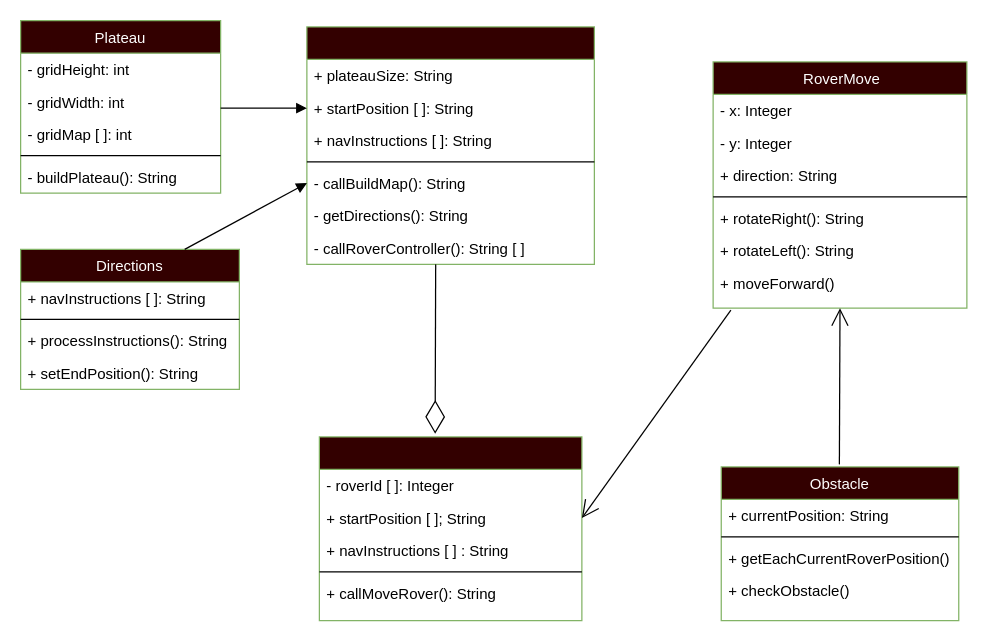
Image size: 988x641. Some labels were removed from this diagram. The box of each missing label's shape, as (x1, y1, x2, y2) in pixels:
ProgramController: (306, 26, 594, 264)
RoverController: (318, 436, 582, 621)
